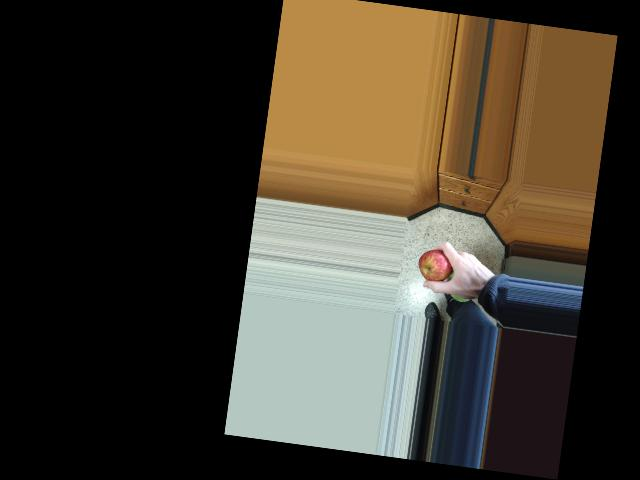apple: (414, 245, 459, 289)
